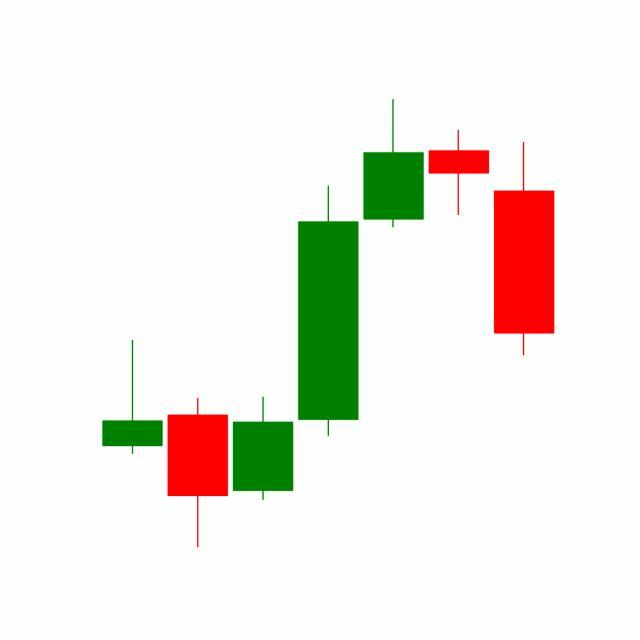Hikkake Pattern: (229, 99, 555, 505)
